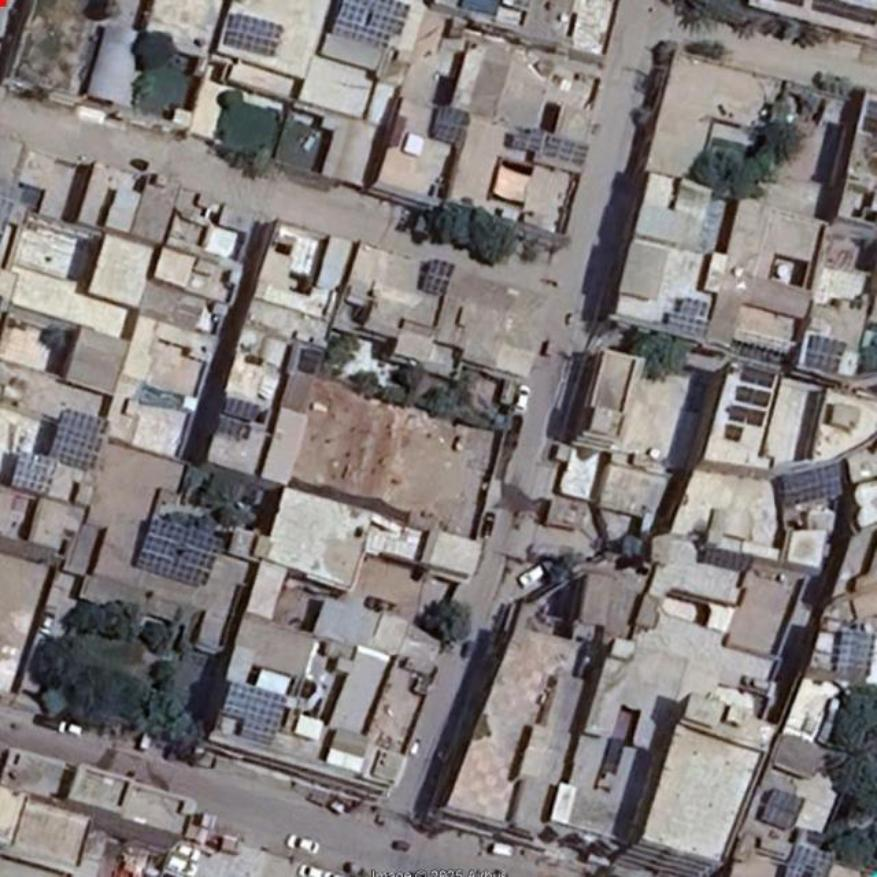Solarpanel: (135, 520, 222, 588), (329, 0, 412, 51), (218, 683, 287, 741), (49, 408, 109, 470), (781, 463, 843, 507), (224, 12, 282, 55), (13, 450, 58, 496), (838, 626, 875, 672), (784, 846, 837, 876), (805, 336, 847, 372), (543, 135, 589, 164), (705, 545, 753, 569), (426, 260, 453, 296), (223, 397, 261, 420), (731, 403, 766, 427), (740, 364, 776, 387), (734, 384, 772, 404)
